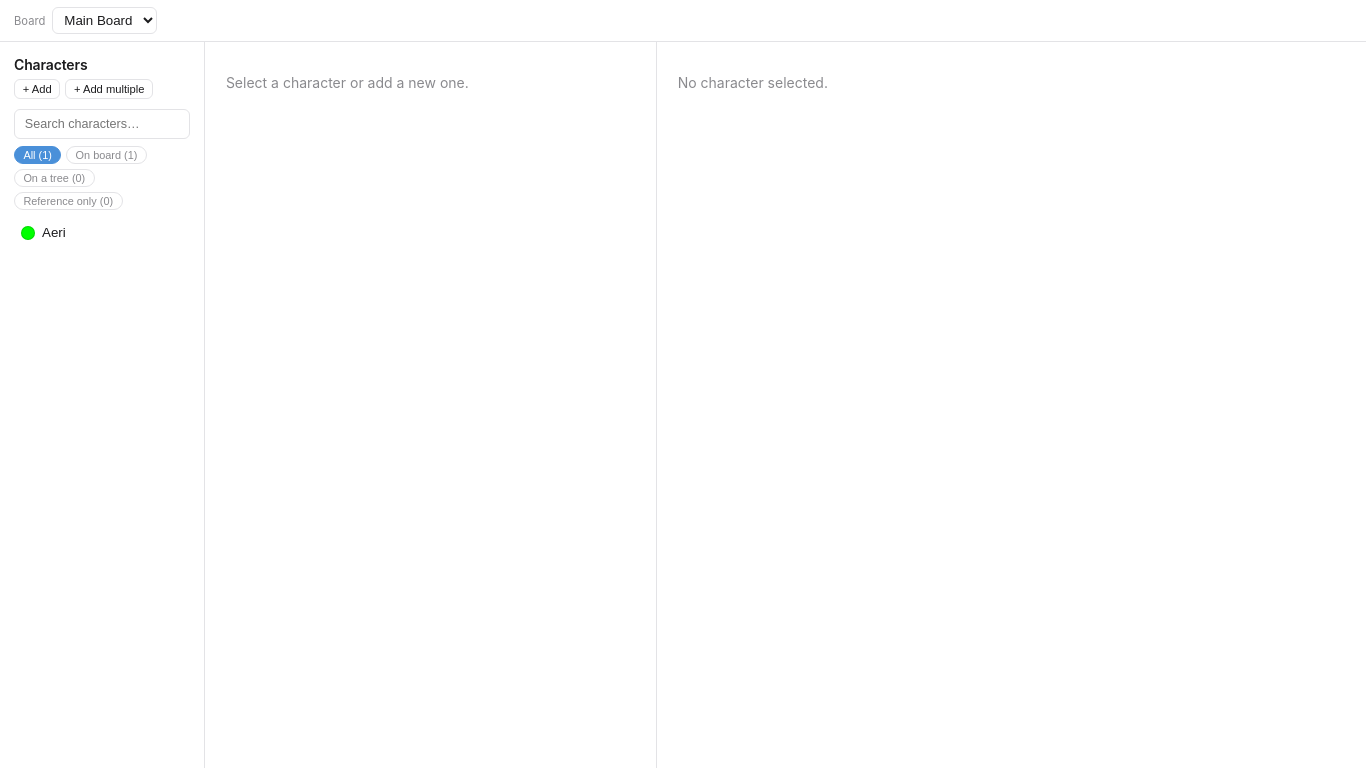
Test: the Characters tab notes column › offers "Add note" when nothing has been written
Click the button "Aeri" at (102,233), box [14,219,190,246]
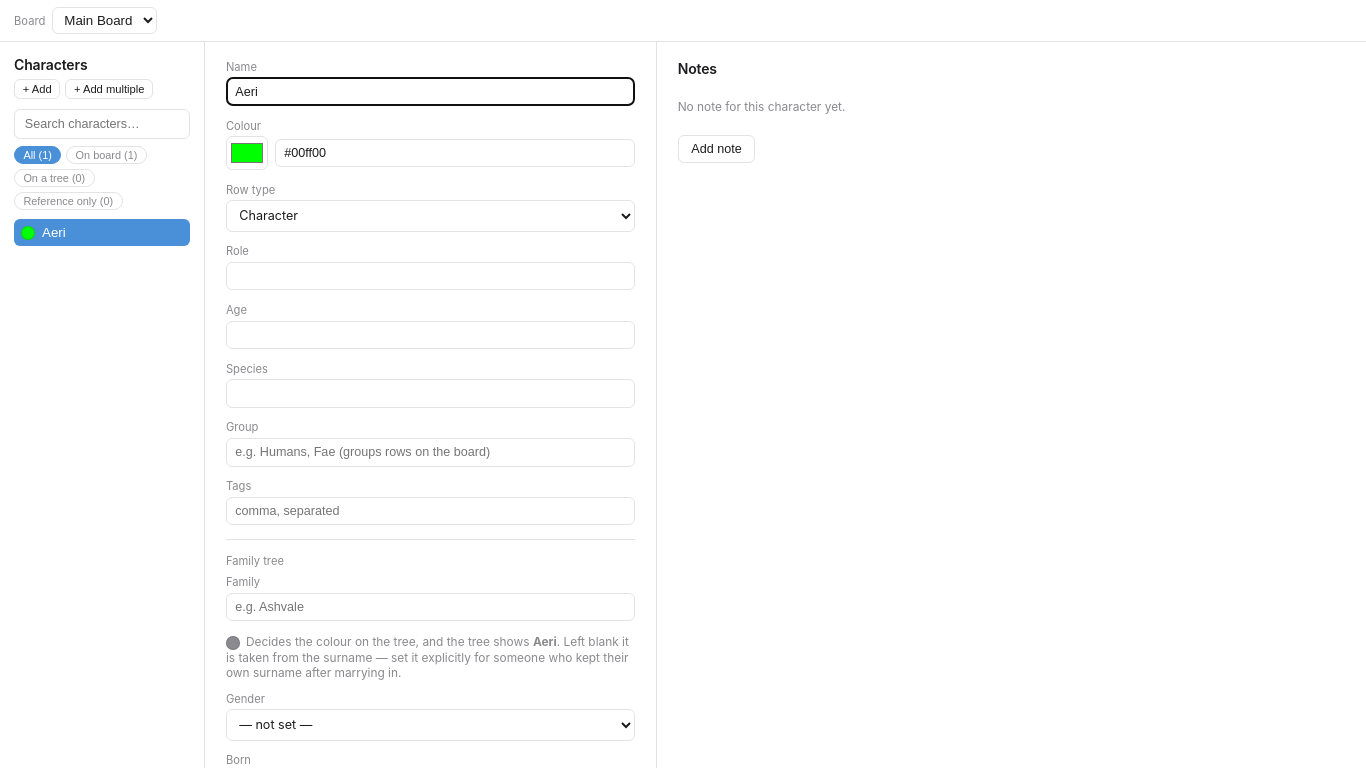
Expected: the button "Add note" is shown, [678,134,755,163]
